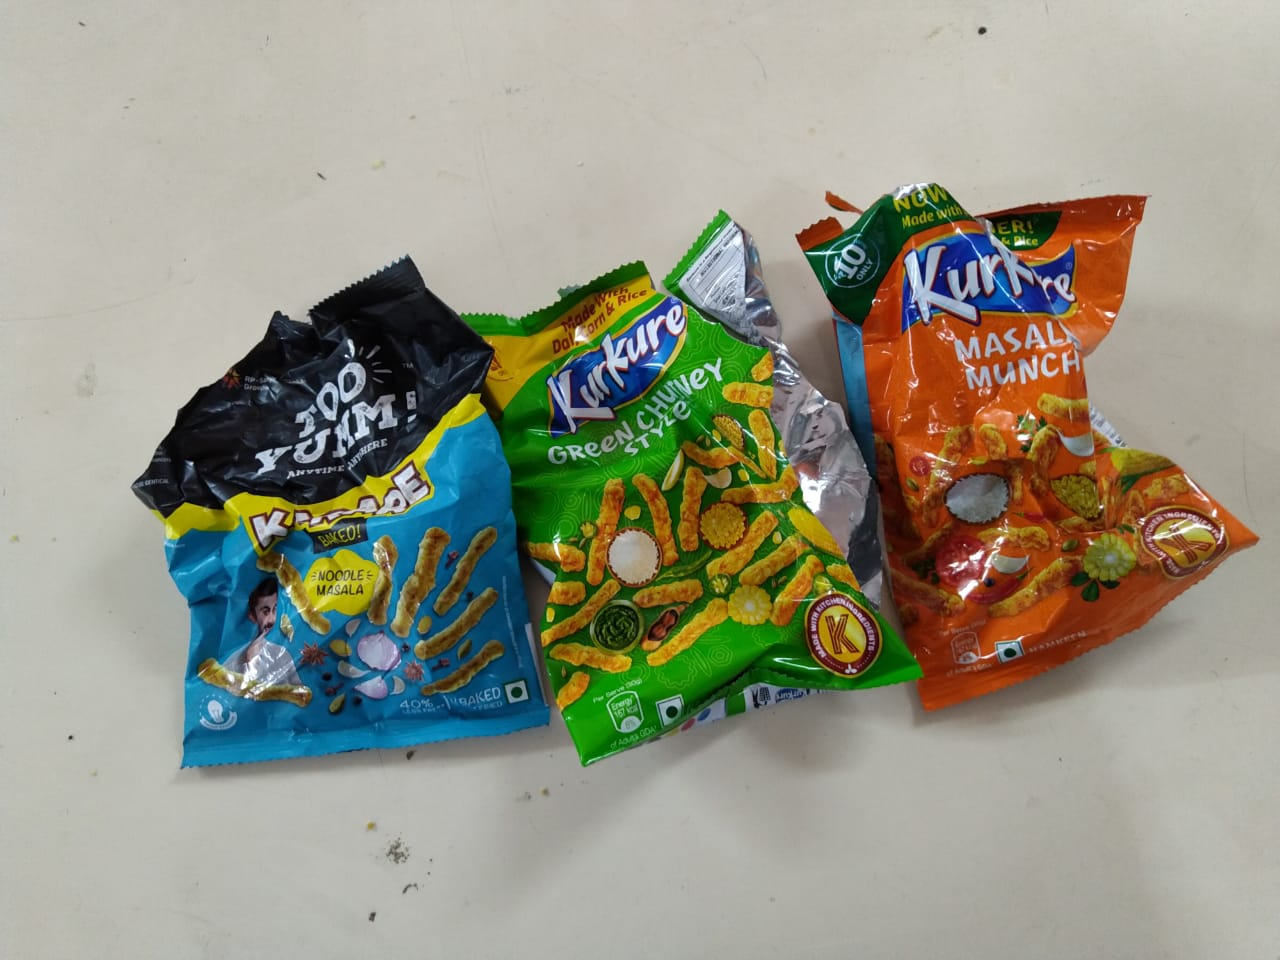kurkure: (531, 267, 715, 461), (869, 223, 1129, 339), (887, 233, 1101, 353), (541, 305, 693, 443)
plastic: (133, 165, 1225, 777)
tooyumm: (229, 339, 447, 497)
wrapper: (451, 229, 931, 703), (841, 189, 1175, 689), (169, 267, 495, 767)
